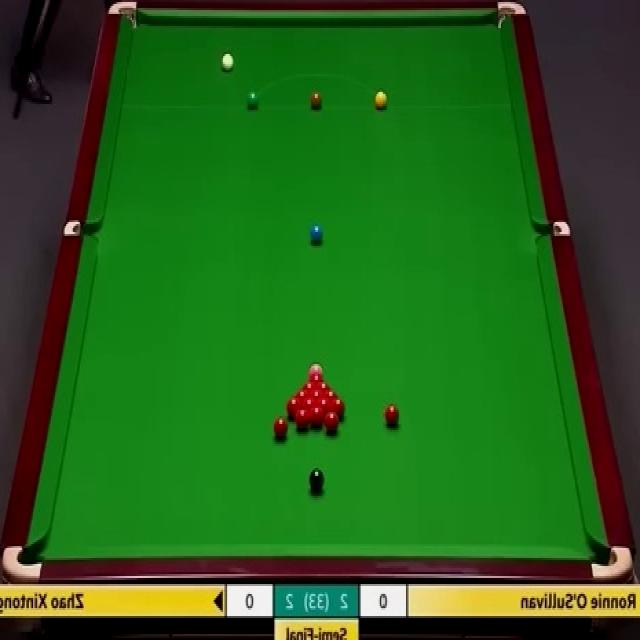black-ball: (309, 466, 325, 493)
blue-ball: (309, 224, 322, 247)
brown-ball: (311, 91, 323, 108)
green-ball: (247, 90, 258, 110)
pink-ball: (308, 359, 324, 376)
red-ball: (382, 404, 401, 430), (272, 415, 288, 443), (324, 412, 340, 435), (309, 405, 324, 429), (285, 397, 302, 417), (293, 410, 309, 431), (330, 397, 345, 418), (302, 398, 315, 416), (316, 397, 331, 412), (300, 382, 318, 392), (293, 389, 309, 400), (308, 372, 325, 382), (308, 390, 324, 400), (317, 382, 333, 391), (324, 390, 337, 401)
white-ball: (221, 50, 235, 74)
yellow-ball: (373, 89, 388, 110)
